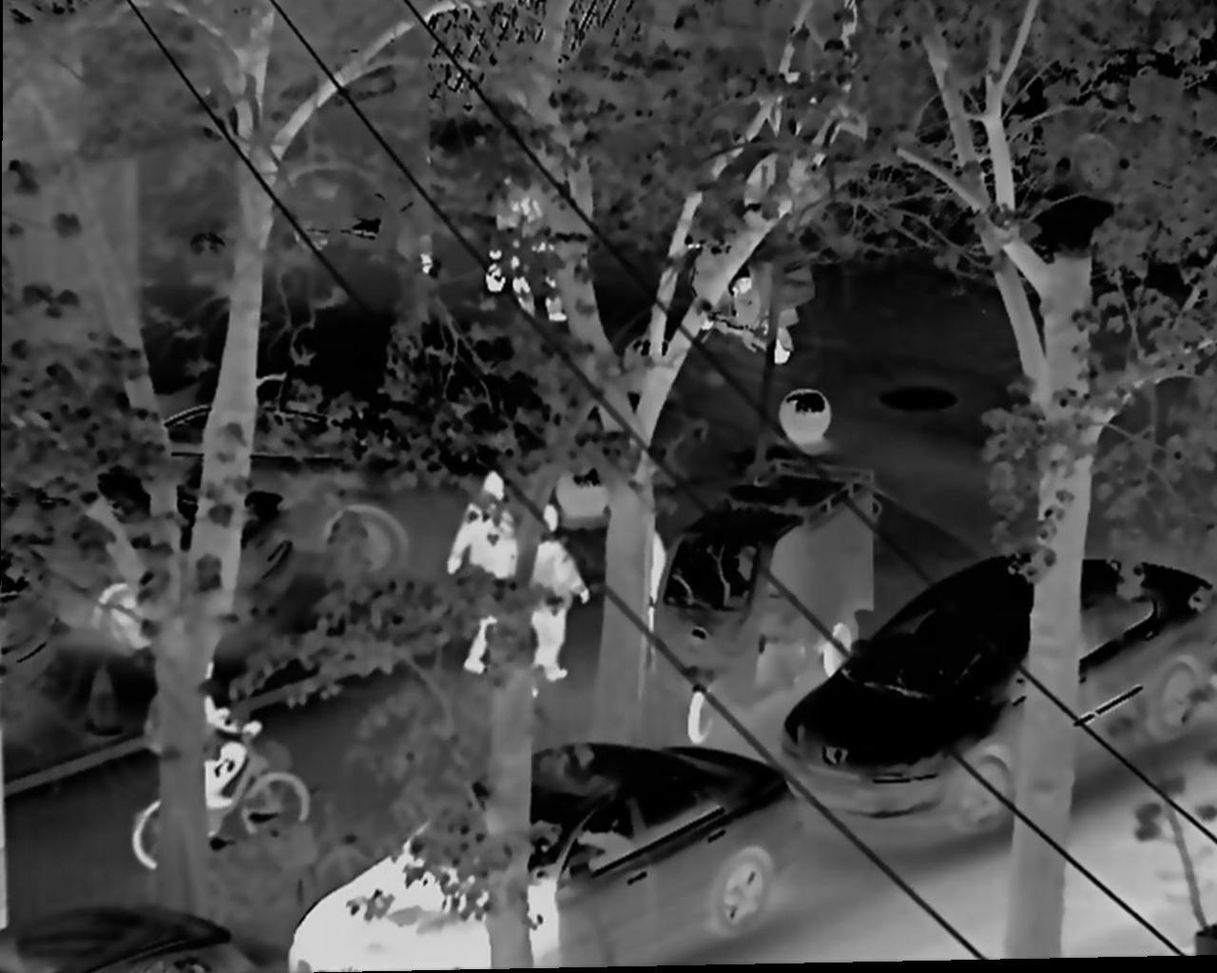person: (441, 457, 519, 689), (159, 632, 238, 831), (515, 490, 589, 698), (482, 142, 567, 300)
